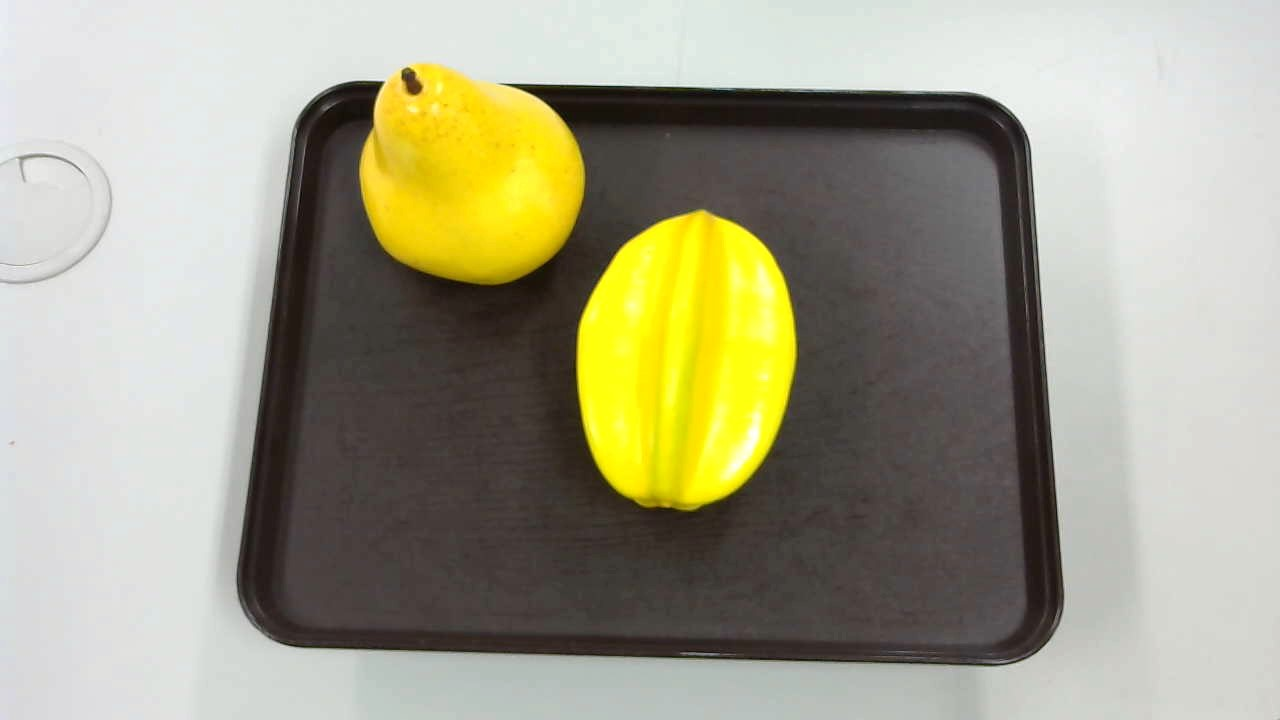star fruit: (572, 209, 793, 509)
yellow pear: (351, 62, 589, 288)
